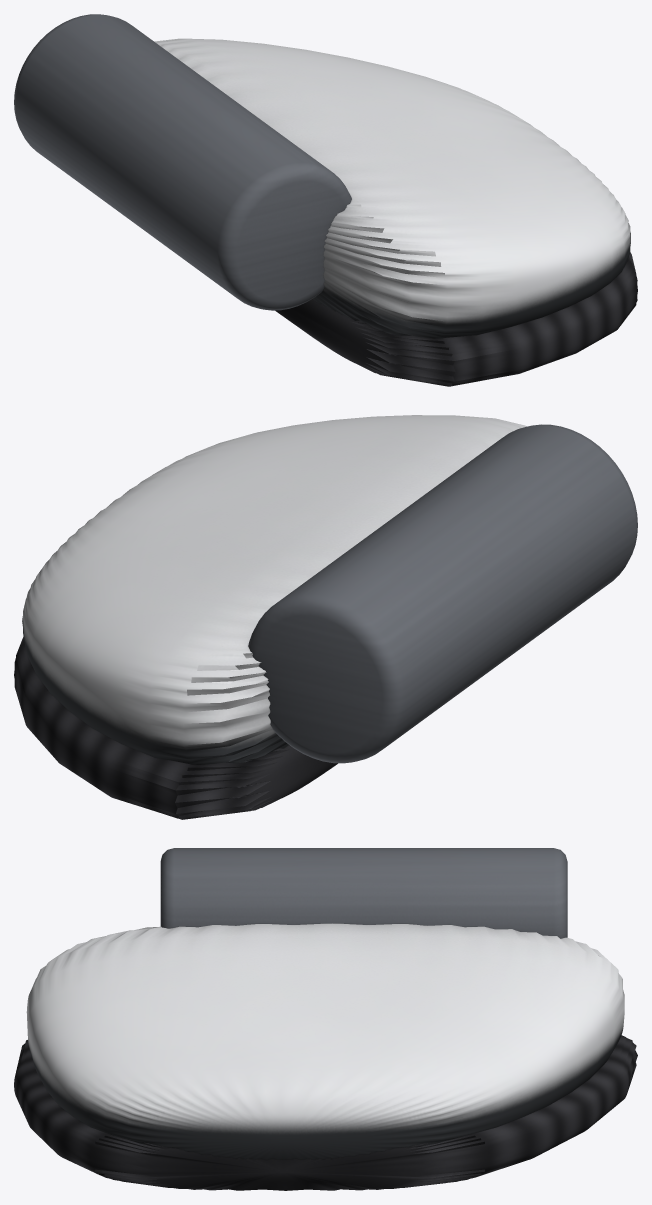
File: left_toe.glb
3 renders of one model, top to bottom at view 1: azimuth 30°, elevation 25°; view 2: azimuth 150°, elevation 25°; view 3: azimuth 270°, elevation 25°, orthographic. The views are drawn at different scales.
Visible parts, largest first — view 1: left_toe; view 2: left_toe; view 3: left_toe.
Boxes of the visible parts, x1,y1,x2,y2 form: left_toe: [14, 14, 637, 386]; left_toe: [14, 415, 637, 819]; left_toe: [14, 848, 637, 1190].
Size of the model in its own units: 0.0659 by 0.031 by 0.092.
1 material, 1 textured.
